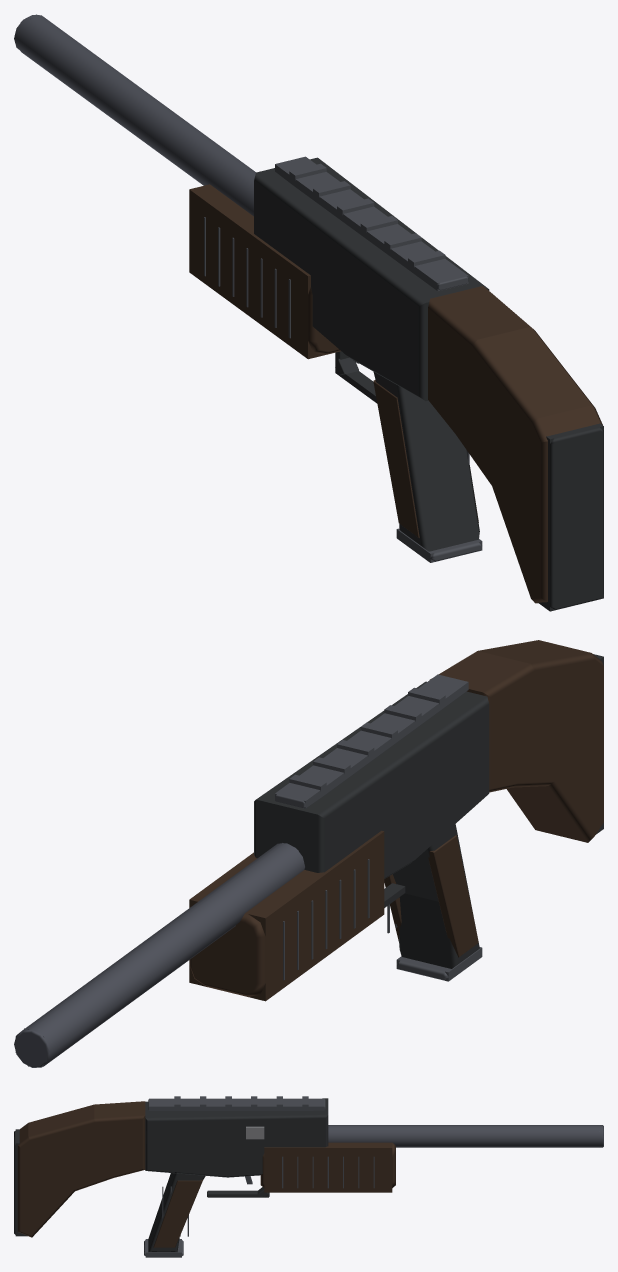
File: sawn.glb
3 renders of one model, top to bottom at view 1: azimuth 30°, elevation 25°; view 2: azimuth 150°, elevation 25°; view 3: azimuth 270°, elevation 25°, orthographic. The views are drawn at different scales.
Visible parts, largest first — view 1: L0, L1; view 2: L0, L1; view 3: L0, L1.
Part boxes in pixels (x1=…): L0: x1=14, y1=15, x2=603, y2=610; L1: x1=19, y1=14, x2=603, y2=611; L0: x1=14, y1=640, x2=603, y2=1067; L1: x1=15, y1=655, x2=603, y2=1066; L0: x1=14, y1=1096, x2=603, y2=1255; L1: x1=15, y1=1098, x2=602, y2=1257.
Size of the model in its own units: 0.0544 by 0.1811 by 0.6453.
